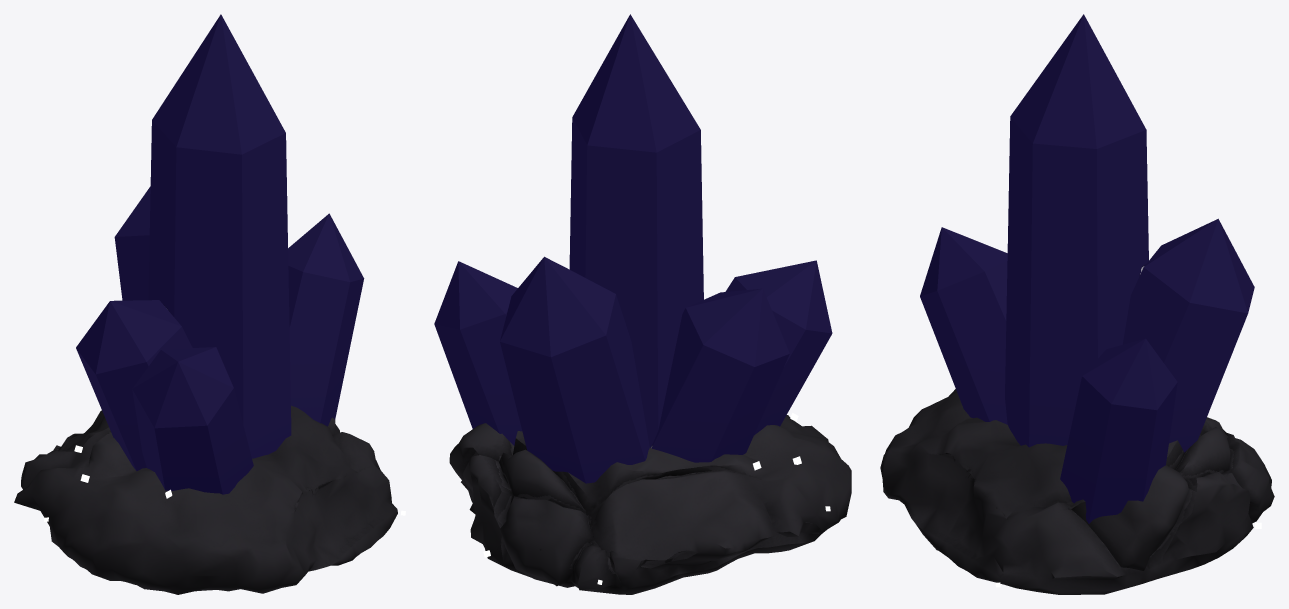
The model's file is cristal_vacio.fbx.
3 renders of one model, left to right at view 1: azimuth 30°, elevation 25°; view 2: azimuth 150°, elevation 25°; view 3: azimuth 270°, elevation 25°, orthographic.
Parts seen in each view (by area): view 1: cristal_vacio_cristal, cristal_vacio; view 2: cristal_vacio_cristal, cristal_vacio; view 3: cristal_vacio_cristal, cristal_vacio.
Boxes of the visible parts, box(x1,y1,x2,y2) form: cristal_vacio_cristal: box(76, 14, 364, 494); cristal_vacio: box(14, 405, 397, 594); cristal_vacio_cristal: box(434, 14, 832, 483); cristal_vacio: box(449, 415, 851, 594); cristal_vacio_cristal: box(920, 14, 1254, 523); cristal_vacio: box(880, 389, 1274, 594).
Size of the model in its own units: 2.43 by 3.43 by 2.4.
Materials: 3 (3 with a texture image).
